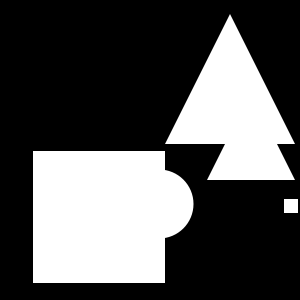circle: (33, 151, 165, 283), (284, 199, 298, 213)
rectangle: (125, 170, 194, 238)
triangle: (165, 14, 295, 144), (207, 92, 295, 180)
